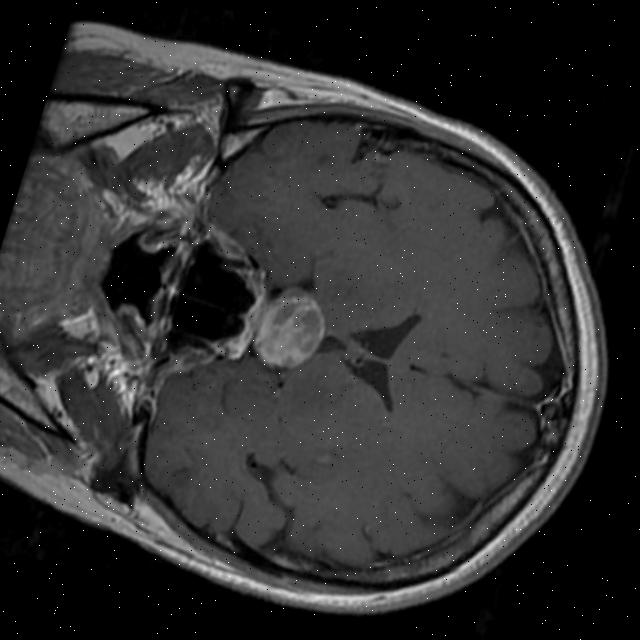Pituitary: (247, 278, 334, 376)
